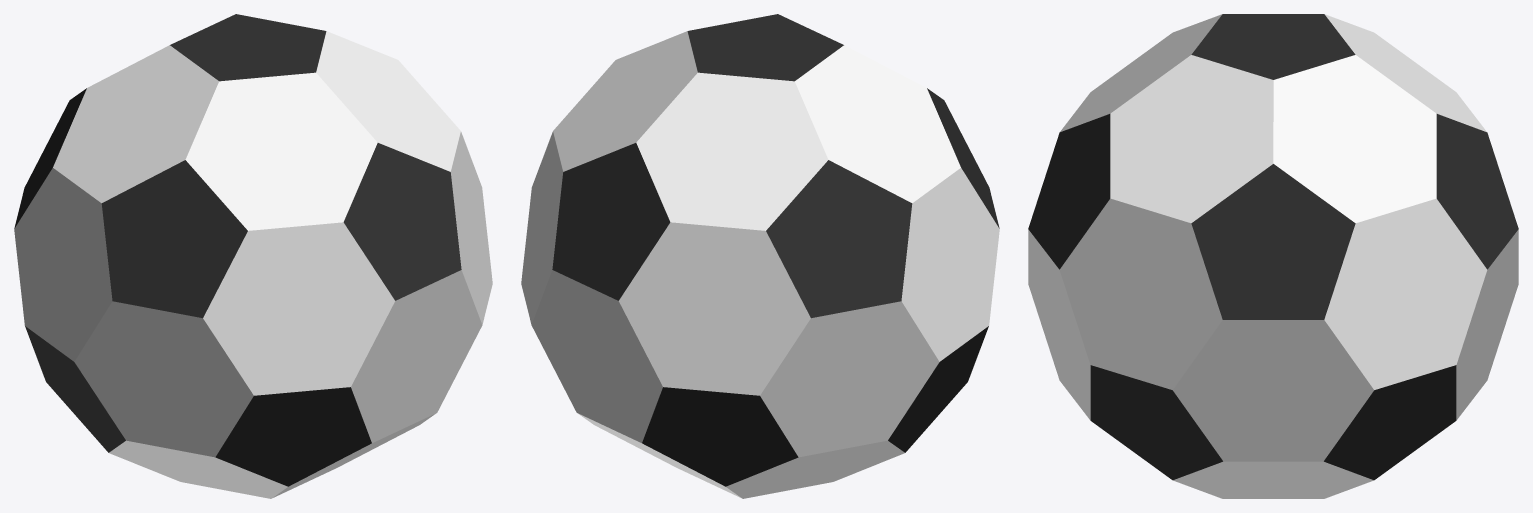
File: football.fbx
3 renders of one model, left to right at view 1: azimuth 30°, elevation 25°; view 2: azimuth 150°, elevation 25°; view 3: azimuth 270°, elevation 25°, orthographic. The views are drawn at different scales.
Parts seen in each view (by area): view 1: football; view 2: football; view 3: football.
Part boxes in pixels (x1,y1,x2,y2): football: [14, 14, 492, 498]; football: [521, 14, 999, 498]; football: [1028, 14, 1518, 498].
Size of the model in its own units: 5.12 by 4.99 by 5.21.
Materials: 1 (1 with a texture image).
